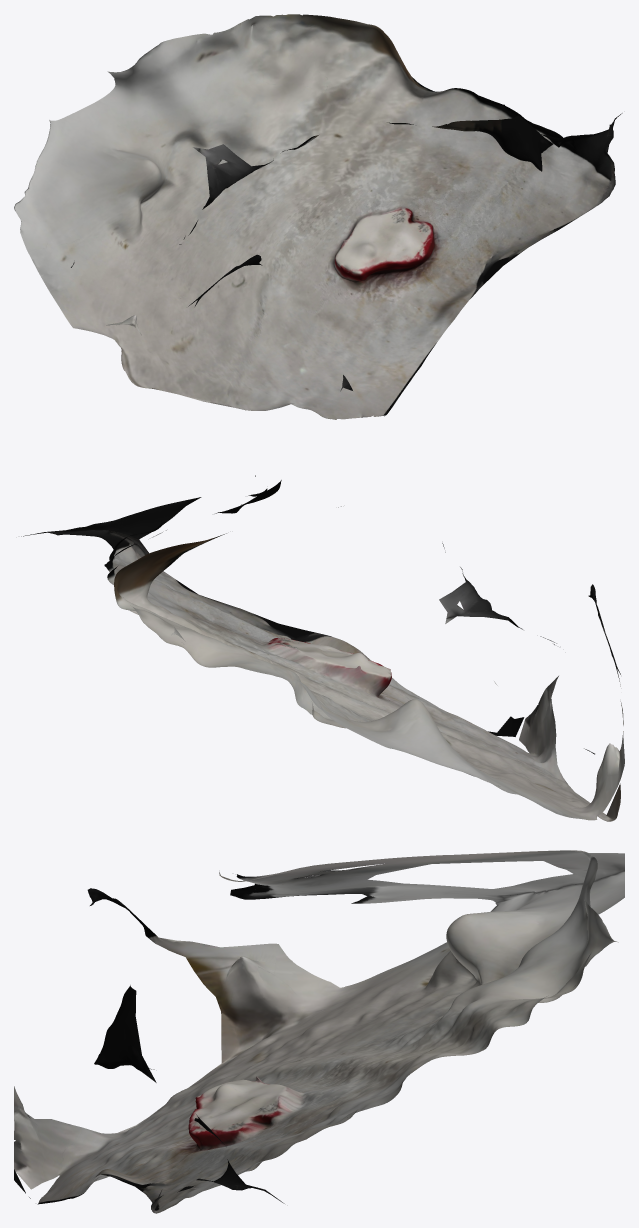
3 renders of one model, top to bottom at view 1: azimuth 30°, elevation 25°; view 2: azimuth 150°, elevation 25°; view 3: azimuth 270°, elevation 25°, orthographic. The views are drawn at different scales.
Bounding box in the file's own units: 1.6 × 0.6737 × 1.13.
1 material, 1 textured.
